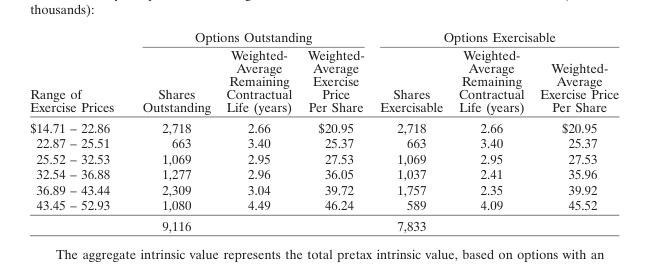table: (29, 28, 618, 233)
table column: (29, 28, 127, 233), (127, 28, 217, 233), (531, 28, 618, 233), (217, 28, 298, 233), (450, 28, 531, 233), (371, 28, 450, 233), (298, 28, 371, 233)
table column header: (29, 28, 618, 116)
table row: (29, 45, 618, 116), (29, 196, 618, 215), (29, 116, 618, 134), (29, 215, 618, 233), (29, 28, 618, 45), (29, 134, 618, 150), (29, 165, 618, 181), (29, 150, 618, 165), (29, 181, 618, 196)
table spanning cell: (29, 28, 127, 116), (371, 28, 618, 45), (127, 28, 371, 45)
